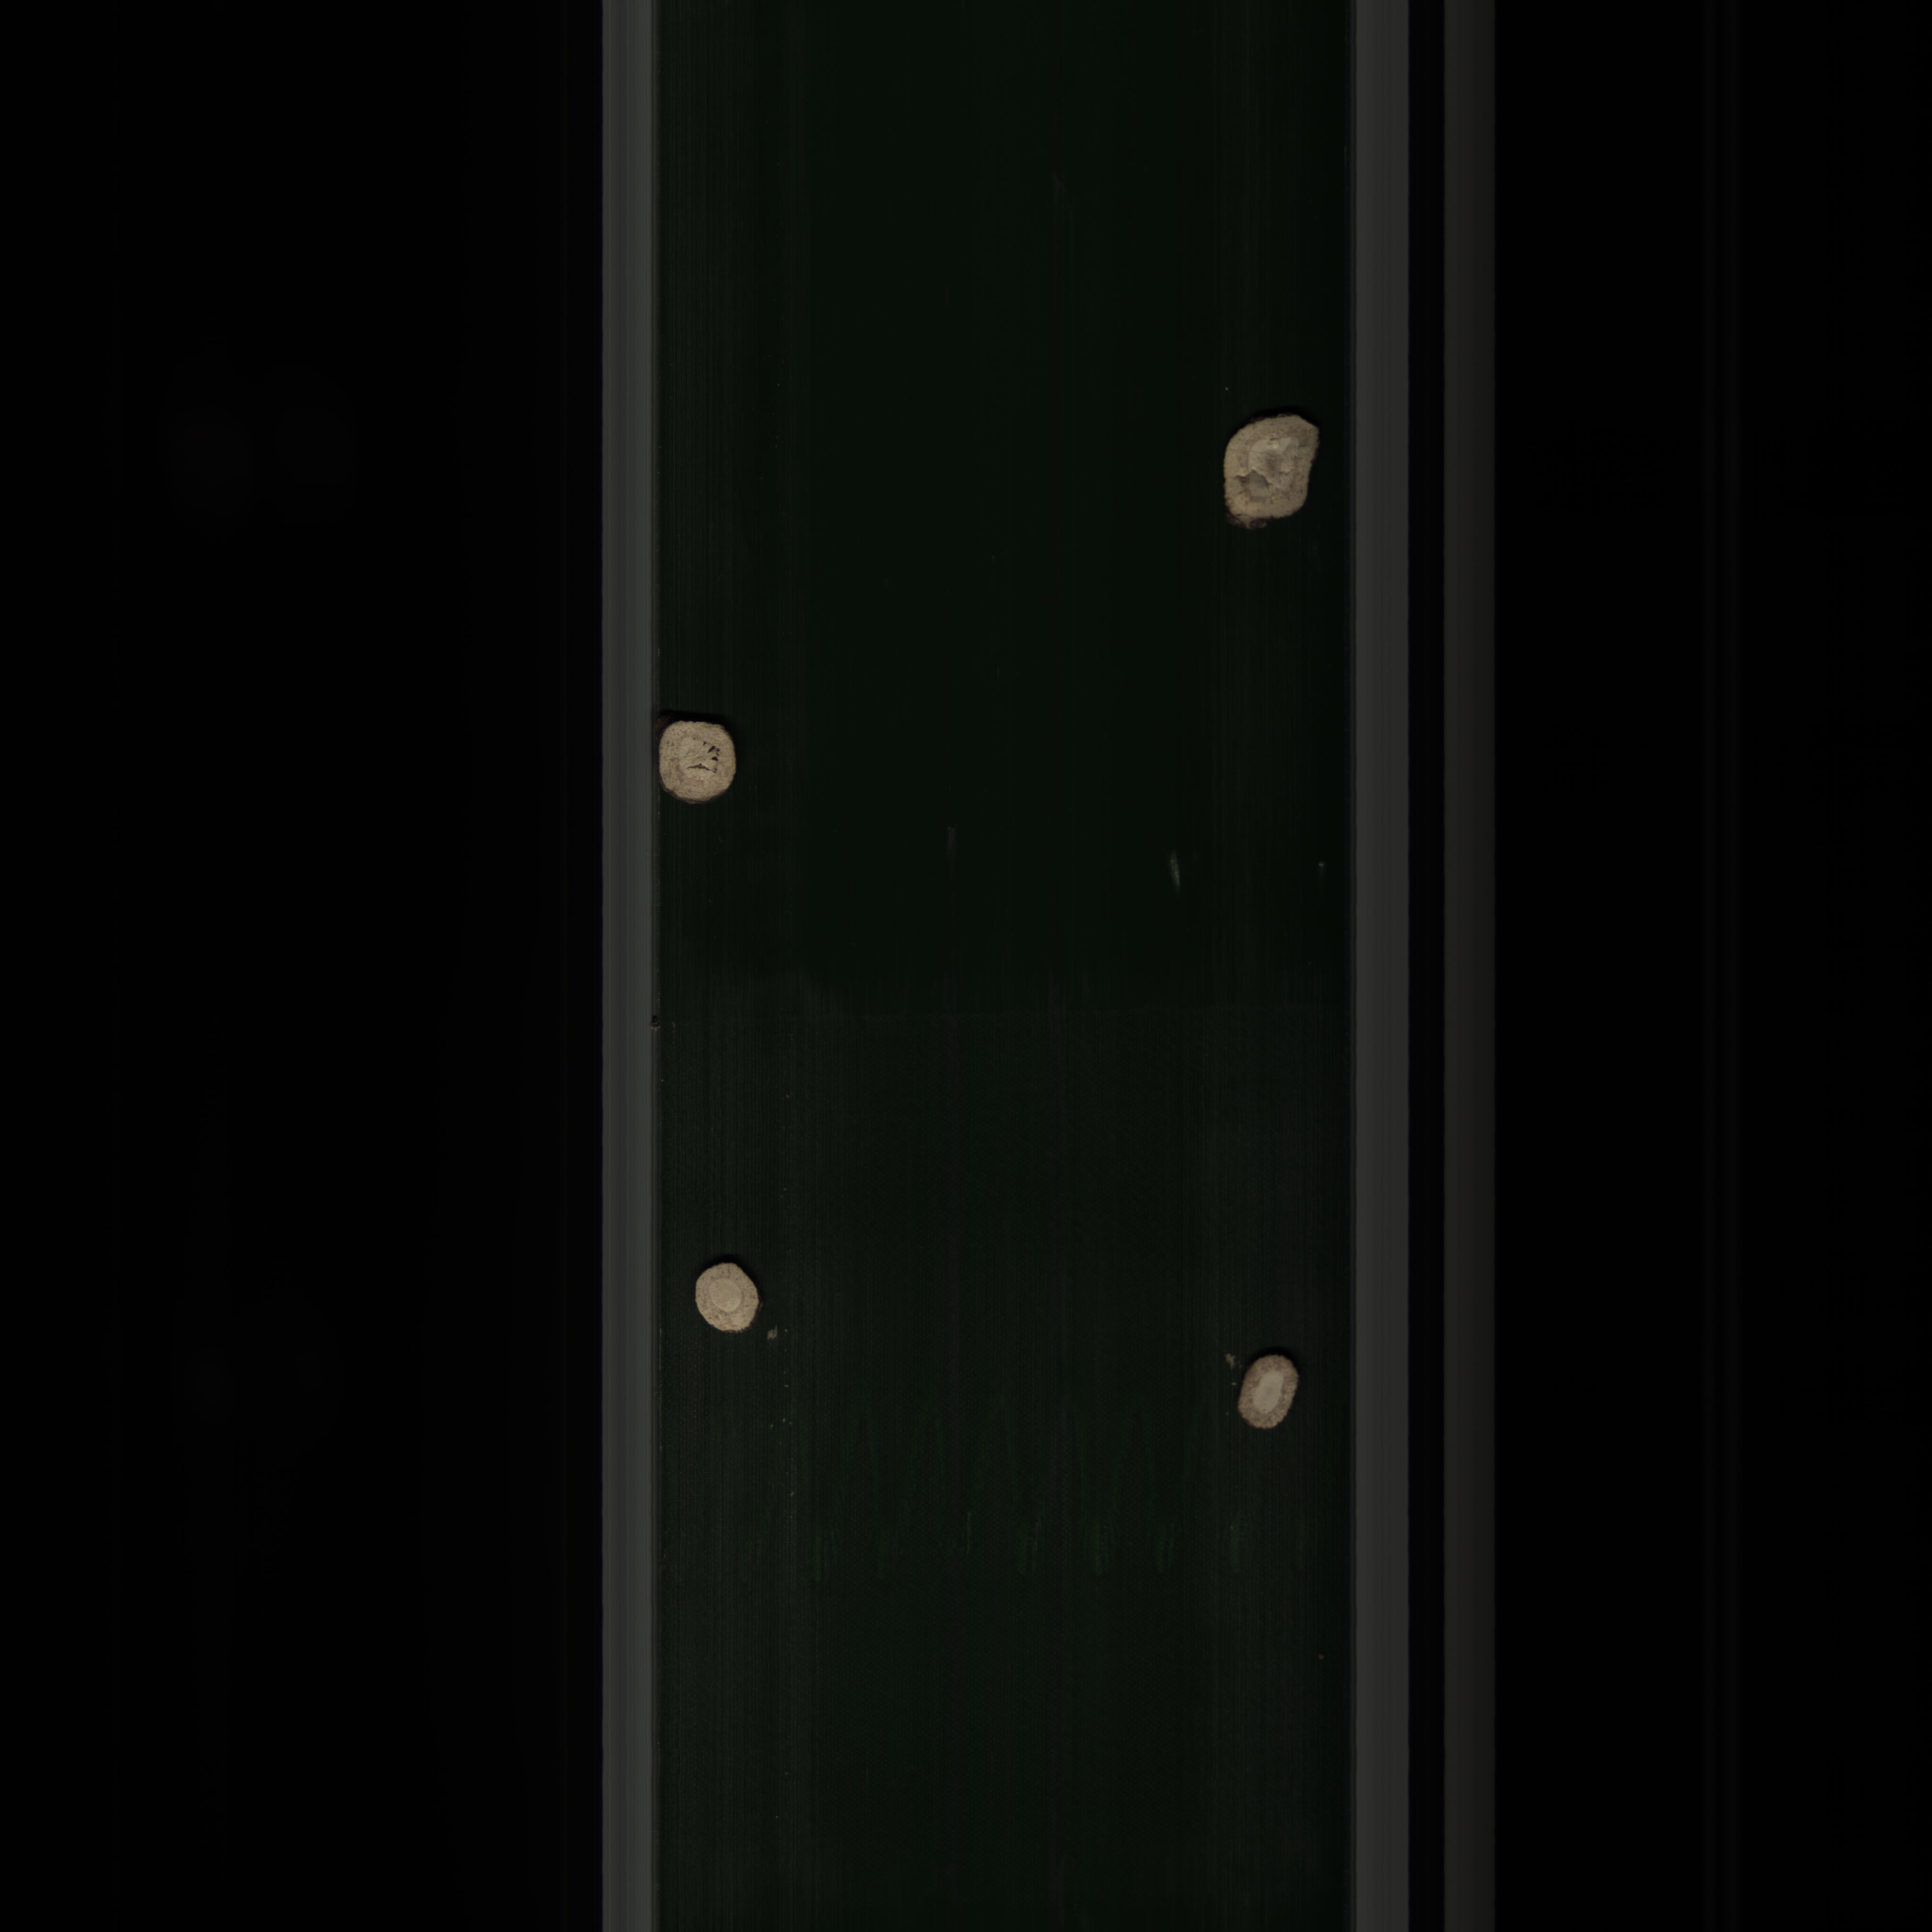hole: (655, 715, 743, 812)
moldy: (1217, 407, 1320, 536)
